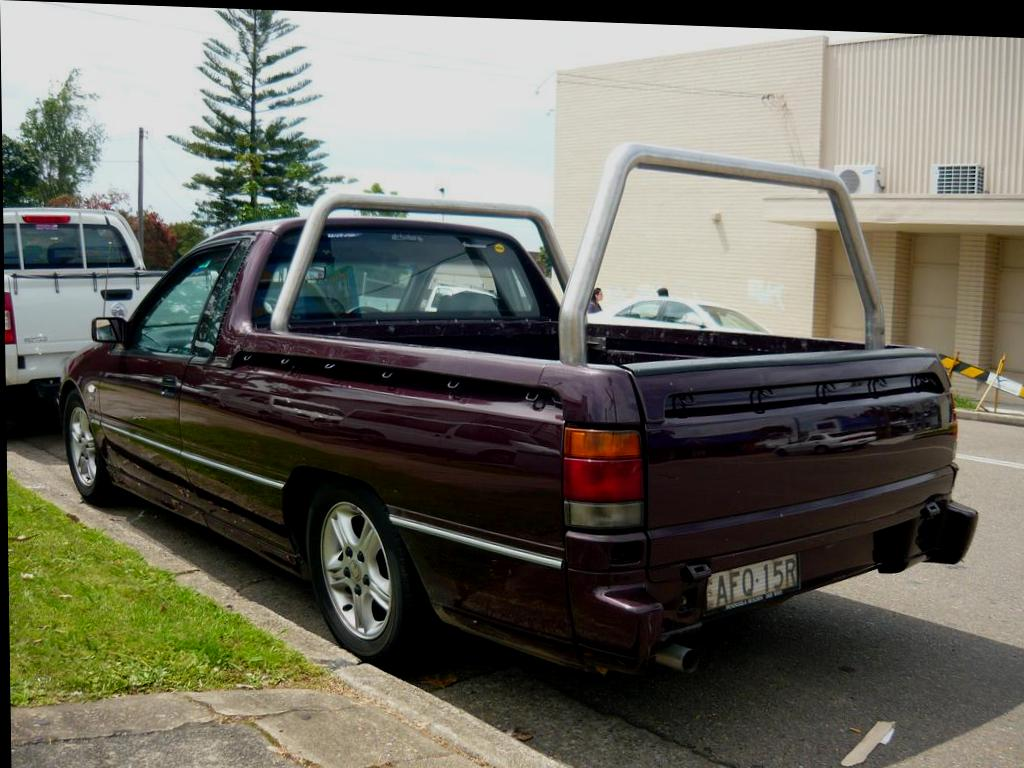License_Plate: (702, 546, 805, 619)
